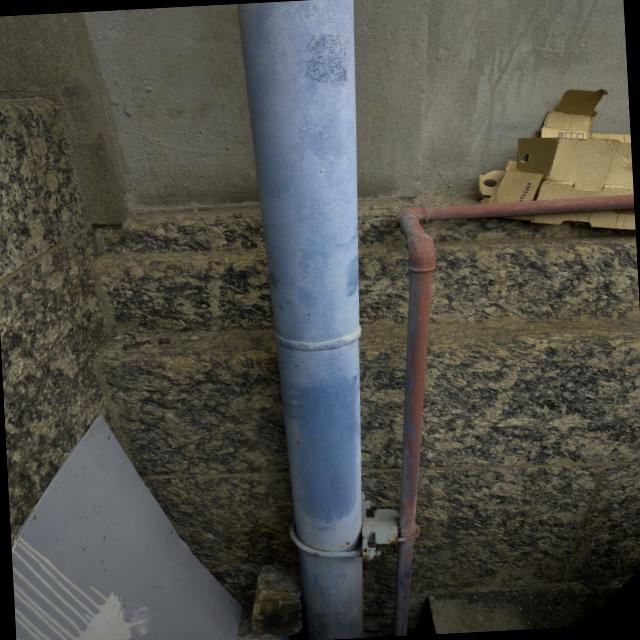gas: (392, 194, 634, 637), (244, 0, 361, 640)
